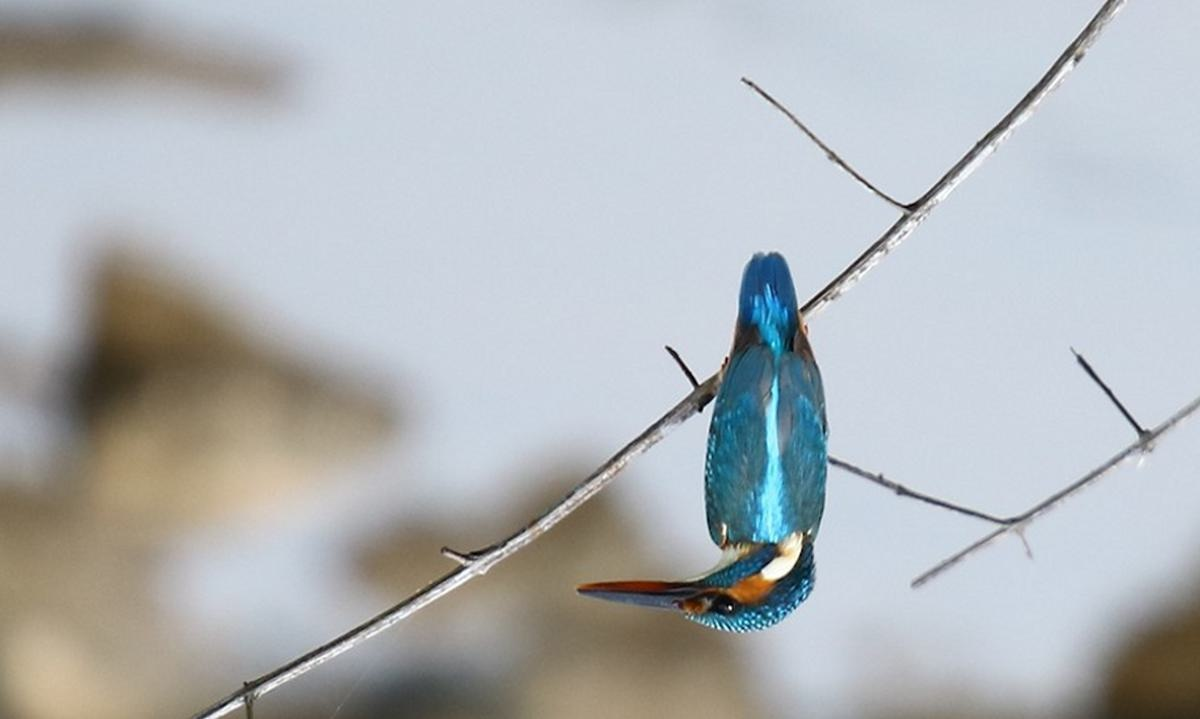kingfisher: (566, 259, 847, 644)
